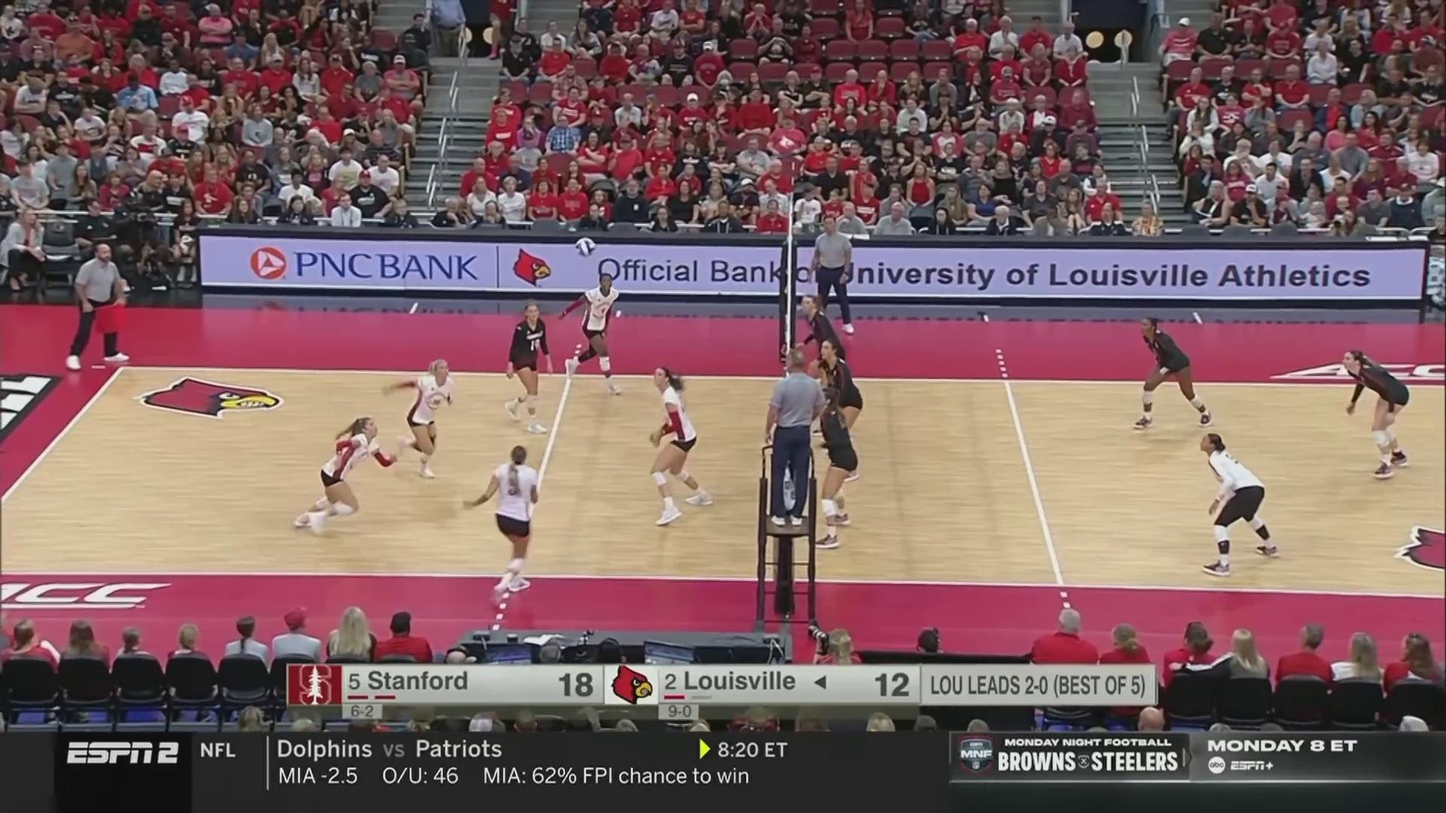player: (1336, 355, 1446, 481), (1199, 435, 1285, 576), (464, 444, 545, 584), (293, 417, 389, 530), (811, 381, 868, 551), (647, 369, 711, 520), (803, 336, 865, 486), (1128, 316, 1211, 427), (562, 273, 631, 386), (395, 360, 459, 478), (503, 299, 556, 428), (793, 295, 847, 420)
refree: (764, 359, 829, 534), (65, 240, 130, 370), (809, 210, 855, 336)
